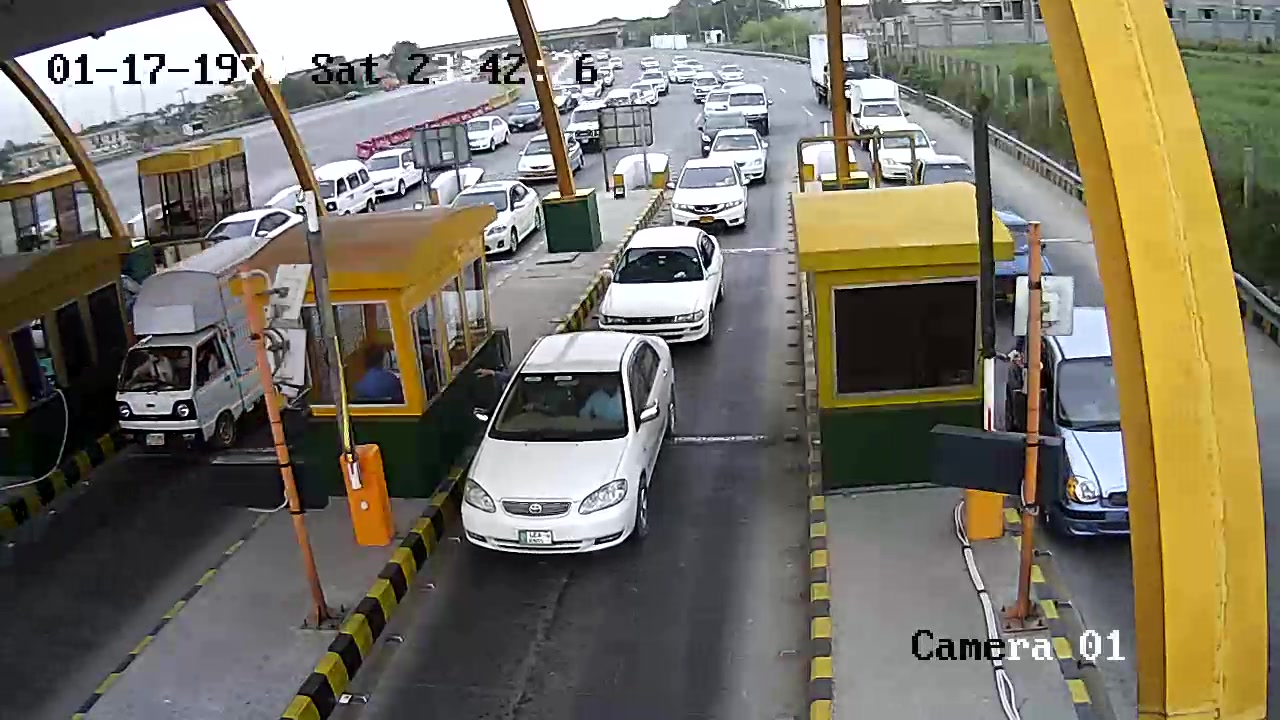F1: (458, 329, 690, 573), (598, 224, 733, 340)
